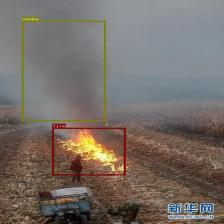fire: (52, 128, 125, 175)
smoke: (22, 20, 105, 121)
